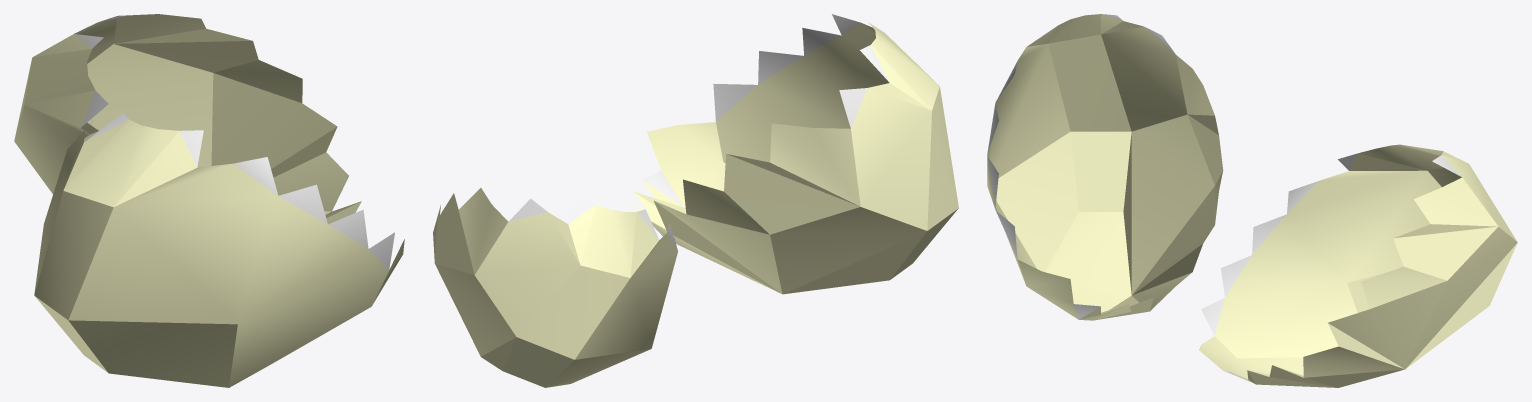
File: low_poly_broken_egg.fbx
3 renders of one model, left to right at view 1: azimuth 30°, elevation 25°; view 2: azimuth 150°, elevation 25°; view 3: azimuth 270°, elevation 25°, orthographic. The views are drawn at different scales.
Parts seen in each view (by area): view 1: poly_egg1, poly_egg2; view 2: poly_egg1, poly_egg2; view 3: poly_egg1, poly_egg2.
Part boxes in pixels (left/top/right/bottom): poly_egg1: left=34, top=112, right=404, bottom=387; poly_egg2: left=14, top=14, right=361, bottom=224; poly_egg1: left=633, top=14, right=958, bottom=294; poly_egg2: left=433, top=188, right=677, bottom=387; poly_egg1: left=987, top=14, right=1223, bottom=320; poly_egg2: left=1199, top=144, right=1517, bottom=387.
Bounding box in the file's own units: 529 × 364 × 657.
